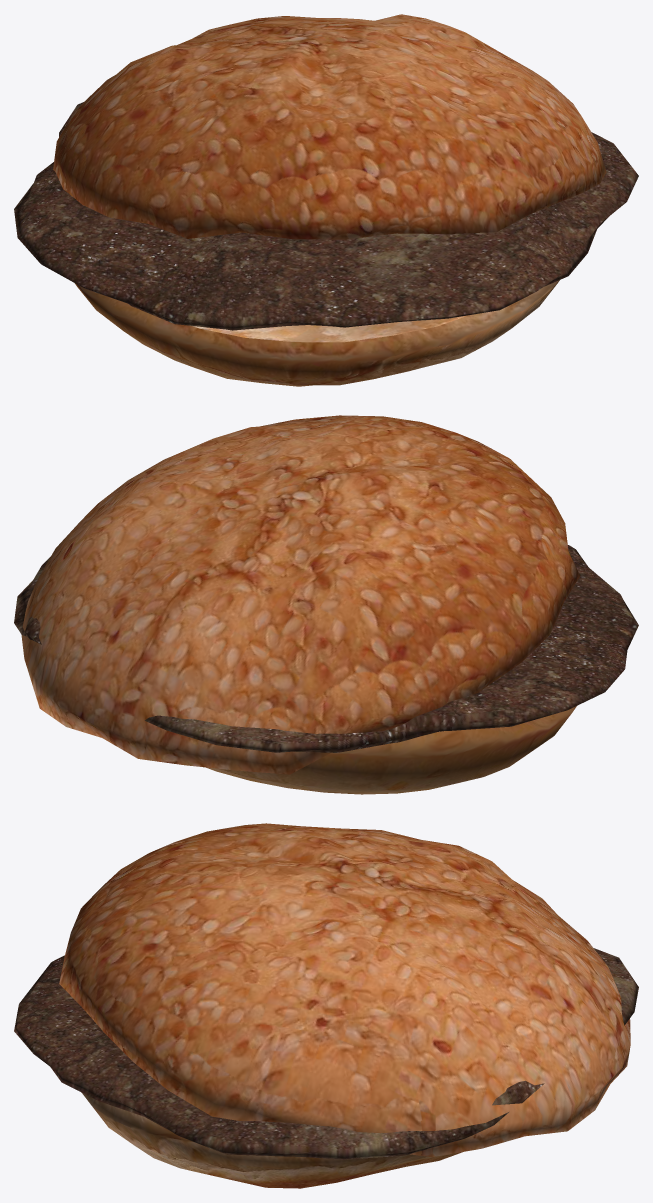
The model's file is hamburger.fbx.
The picture shows the model from 3 angles, top to bottom: view 1: azimuth 30°, elevation 25°; view 2: azimuth 150°, elevation 25°; view 3: azimuth 270°, elevation 25°; orthographic projection.
Parts seen in each view (by area): view 1: BunTop, Hamburger, BunBottom; view 2: BunTop, Hamburger, BunBottom; view 3: BunTop, Hamburger, BunBottom.
Part boxes in pixels (bbox=[...]): BunTop: bbox=[53, 14, 606, 239]; Hamburger: bbox=[14, 102, 638, 330]; BunBottom: bbox=[74, 280, 559, 386]; BunTop: bbox=[21, 415, 579, 774]; Hamburger: bbox=[14, 545, 638, 752]; BunBottom: bbox=[206, 706, 576, 794]; BunTop: bbox=[59, 823, 630, 1157]; Hamburger: bbox=[14, 948, 638, 1159]; BunBottom: bbox=[81, 1092, 462, 1188].
Bounding box in the file's own units: 2.38 × 1.14 × 2.33.
